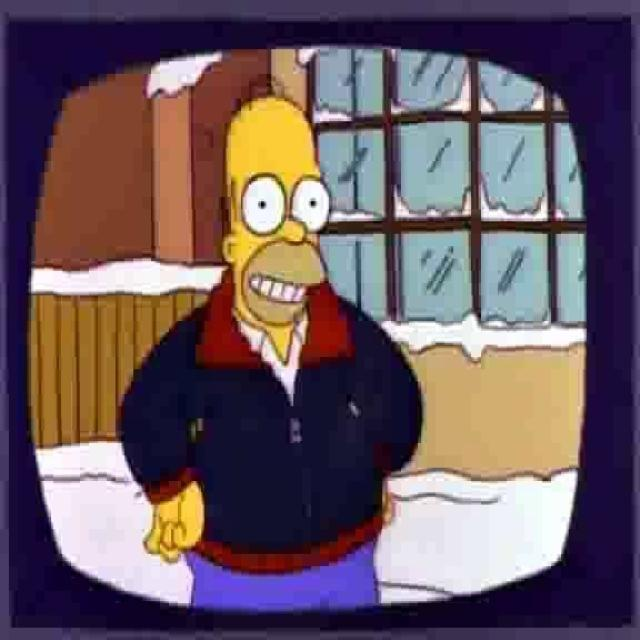Homer Simpson: (220, 88, 330, 337)
